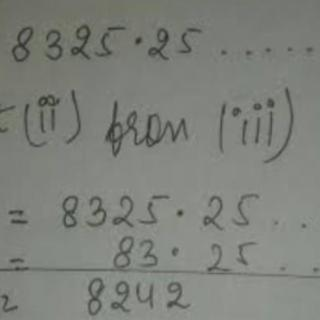.: (170, 245, 181, 259), (175, 207, 186, 218)
2: (202, 195, 226, 233), (145, 27, 171, 62), (111, 194, 136, 230), (165, 280, 193, 312), (206, 241, 233, 273), (70, 23, 92, 60), (110, 279, 132, 314)
3: (85, 194, 108, 228), (137, 238, 161, 269), (43, 29, 64, 62)
5: (136, 194, 171, 226), (94, 25, 127, 58), (231, 193, 261, 228), (176, 26, 204, 56), (236, 240, 260, 267)
8: (11, 26, 35, 63), (85, 275, 106, 317), (110, 235, 135, 269), (59, 193, 79, 230)
